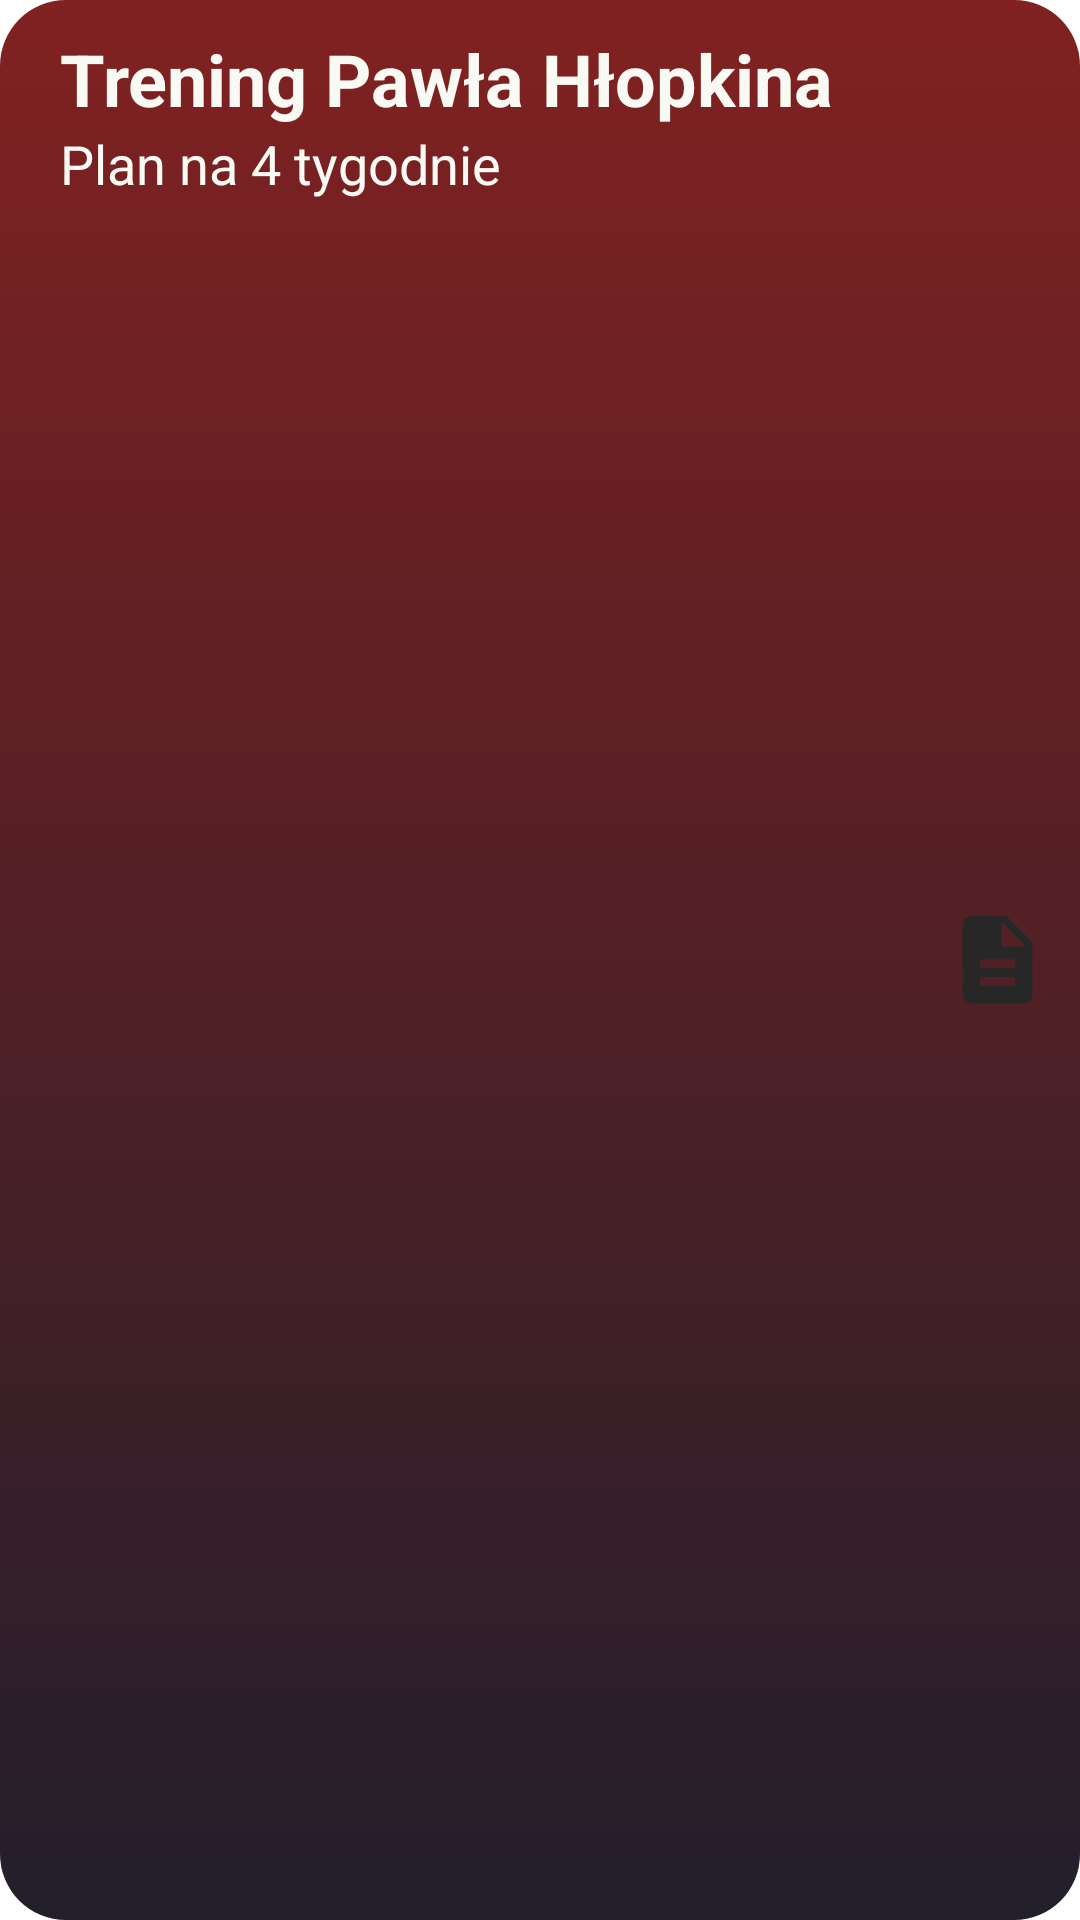

Screen size 1080 × 1920. Icon name, then its center in pixels as point (x, y):
description: point (997, 959)
